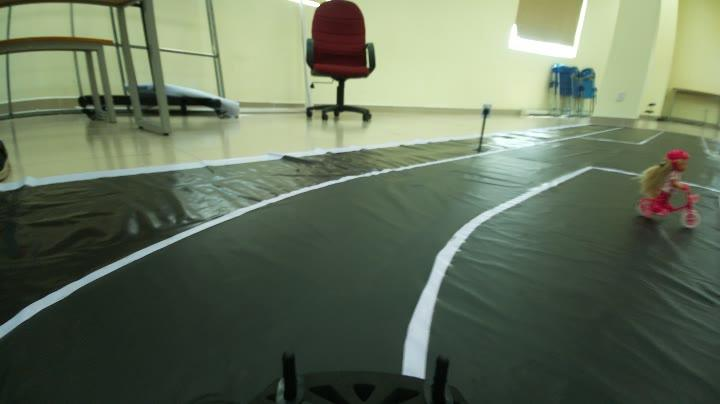pedestrian: (638, 145, 710, 235)
